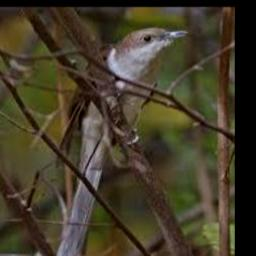Cuckoo: (53, 27, 185, 256)
